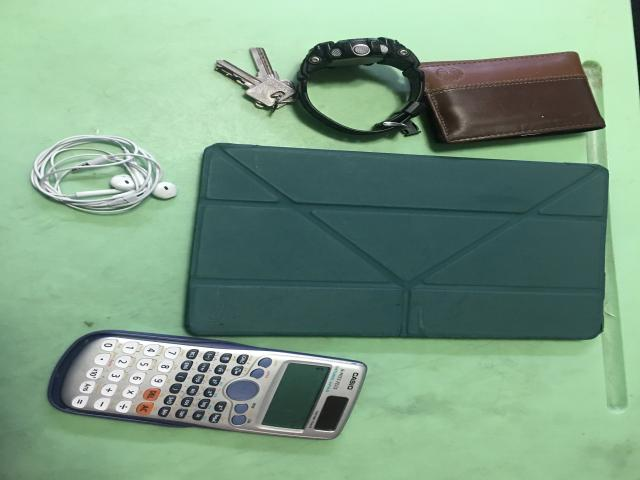Keys: (215, 47, 297, 109)
Wallet: (418, 52, 605, 143)
Watch: (297, 38, 427, 135)
wire: (32, 135, 177, 214)
